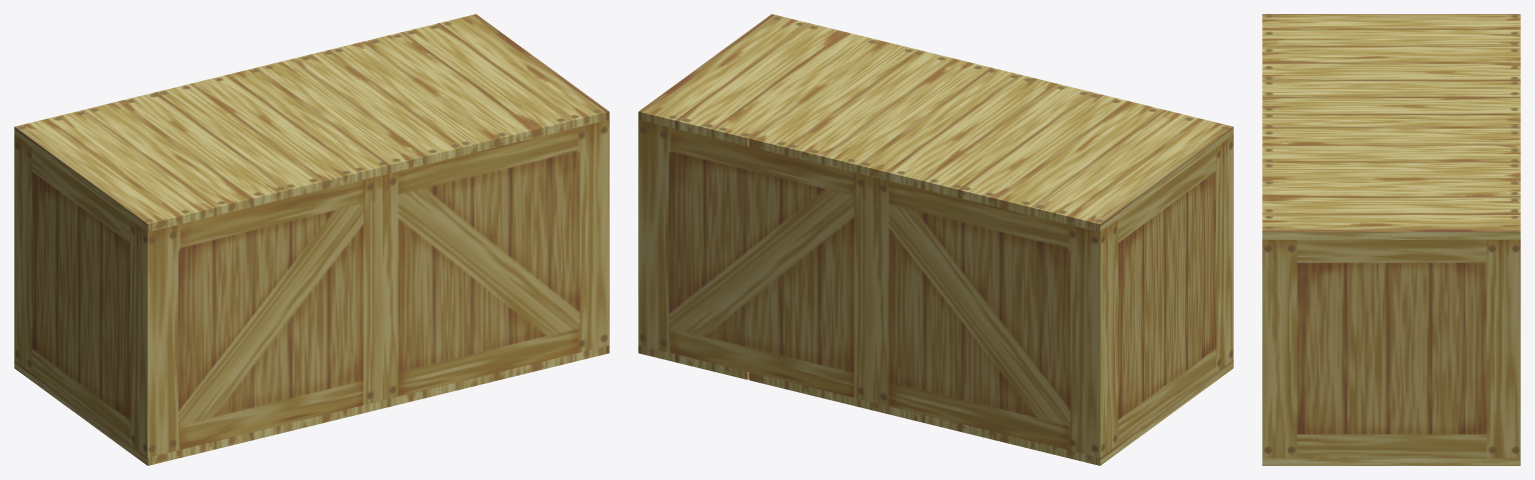
File: BgMD_Crate_01.fbx
3 views of the same model, side by side, from view 1: azimuth 30°, elevation 25°; view 2: azimuth 150°, elevation 25°; view 3: azimuth 270°, elevation 25° (orthographic). The views are drawn at different scales.
Visible parts, largest first — view 1: pCube1; view 2: pCube1; view 3: pCube1.
Boxes of the visible parts, bbox=[...] form: pCube1: bbox=[14, 14, 609, 465]; pCube1: bbox=[638, 14, 1233, 465]; pCube1: bbox=[1262, 14, 1520, 465].
Size of the model in its own units: 200 by 100 by 100.
